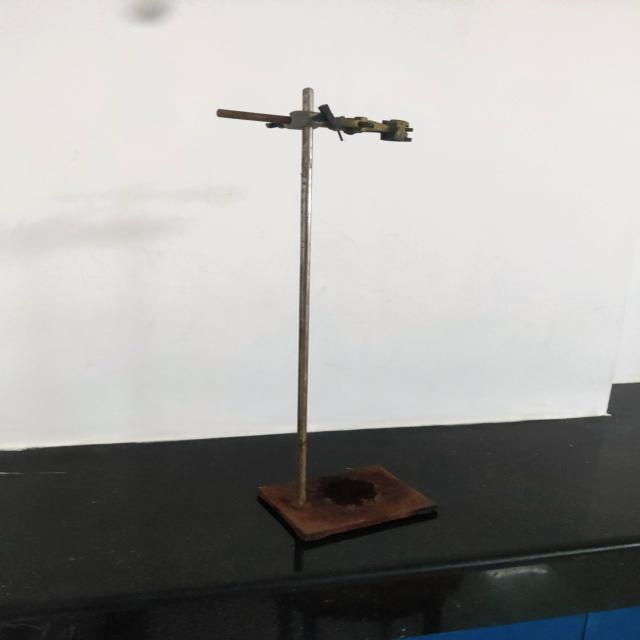Burette_Stands: (202, 74, 472, 542)
